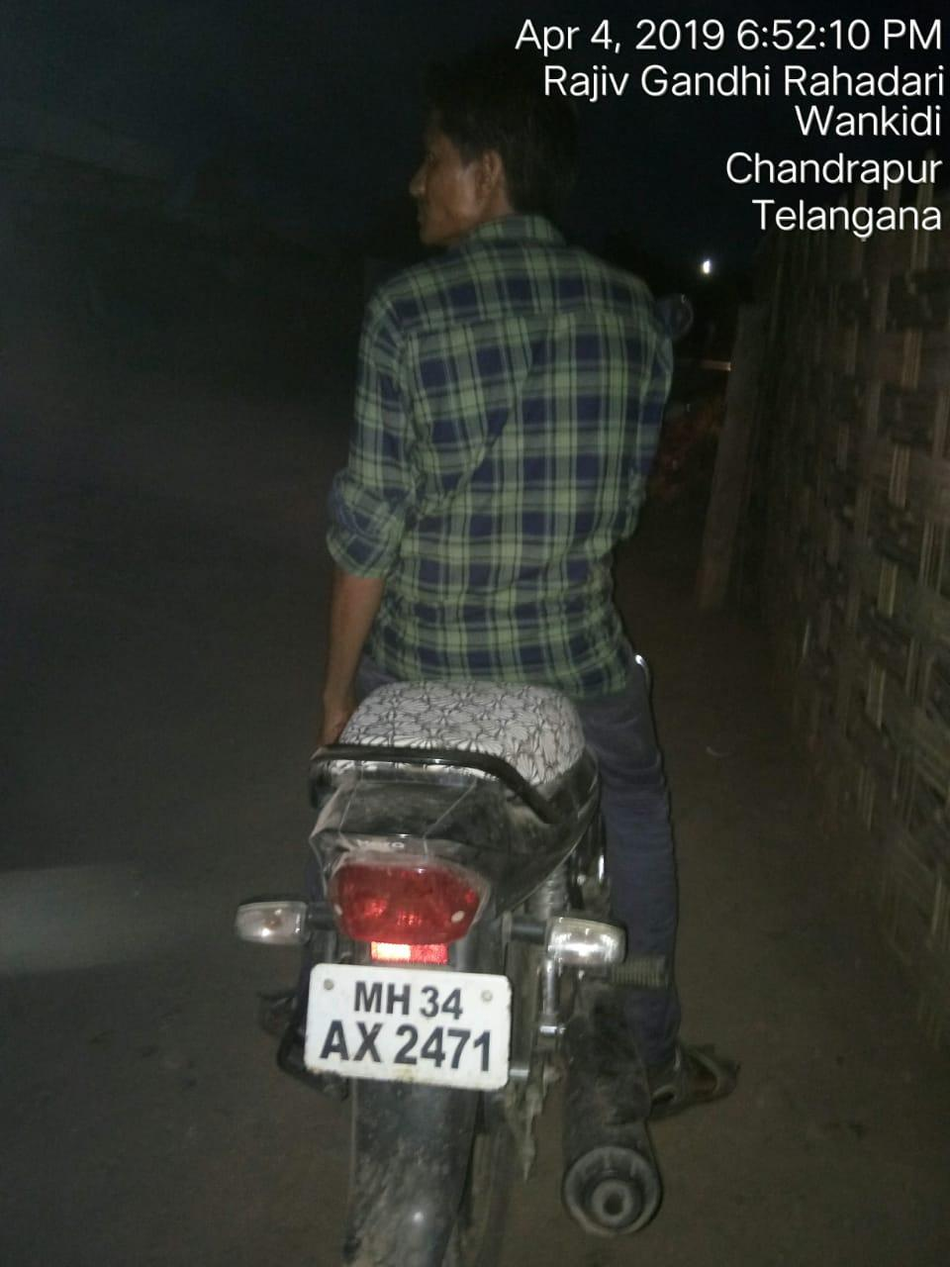plate: (291, 948, 538, 1104)
